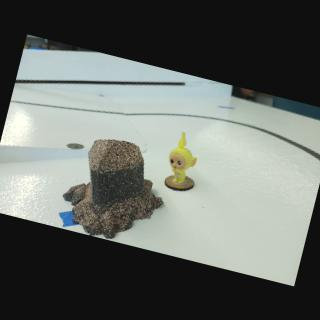teletubby: (168, 132, 196, 183)
